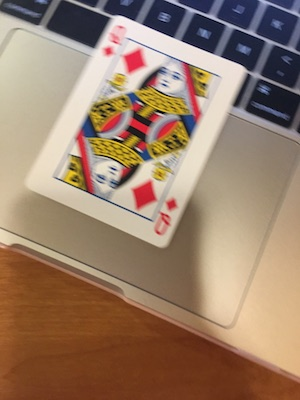QueenOfDiamonds: (23, 9, 248, 255)
